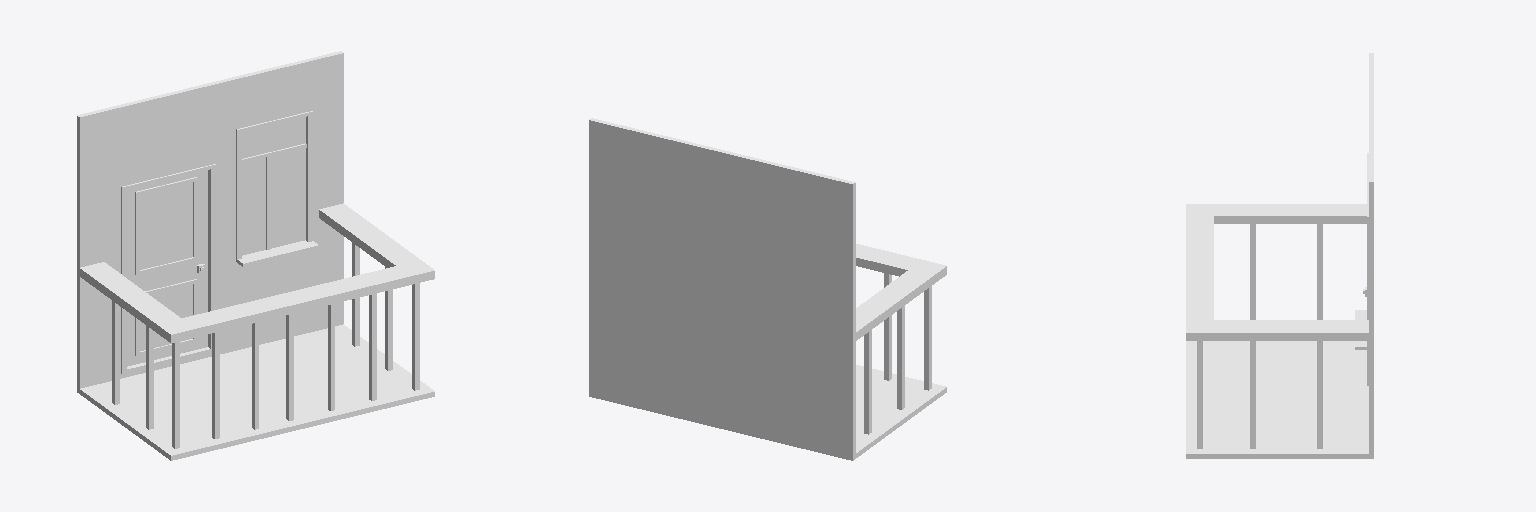
File: balcony2-2-lod1.obj
The picture shows the model from 3 angles: view 1: azimuth 30°, elevation 25°; view 2: azimuth 150°, elevation 25°; view 3: azimuth 270°, elevation 25°; orthographic projection.
Visible parts, largest first — view 1: lod1; view 2: lod1; view 3: lod1.
Part boxes in pixels (left/top/right/bottom): lod1: left=77, top=51, right=434, bottom=460; lod1: left=589, top=118, right=946, bottom=460; lod1: left=1186, top=53, right=1373, bottom=458.
Size of the model in its own units: 16 by 16 by 9.9.